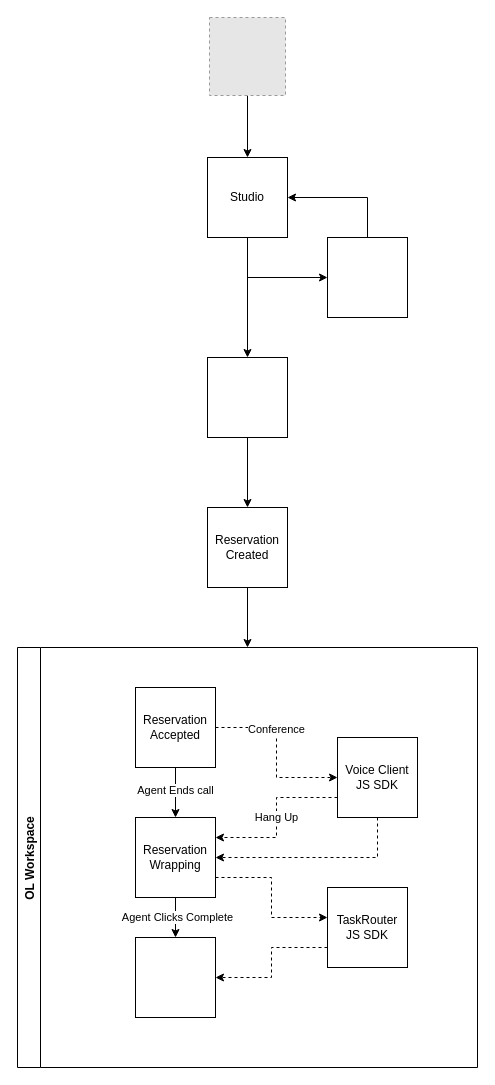
Some shapes in this 495 by 1085 pixel diagram are drawn without their labels. Grey dashed boxes stand in for pictures. The centre of each missing label's shape, as x and y in pixels:
"Auto Pilot" belongs at point 367,277.
"Reservation Completed" belongs at point 175,977.
"TaskRouter" belongs at point 247,397.
